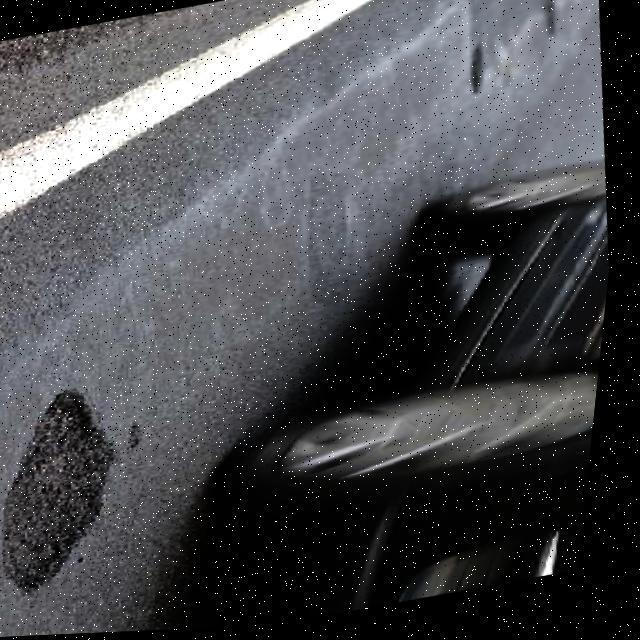pothole: (0, 380, 153, 600)
